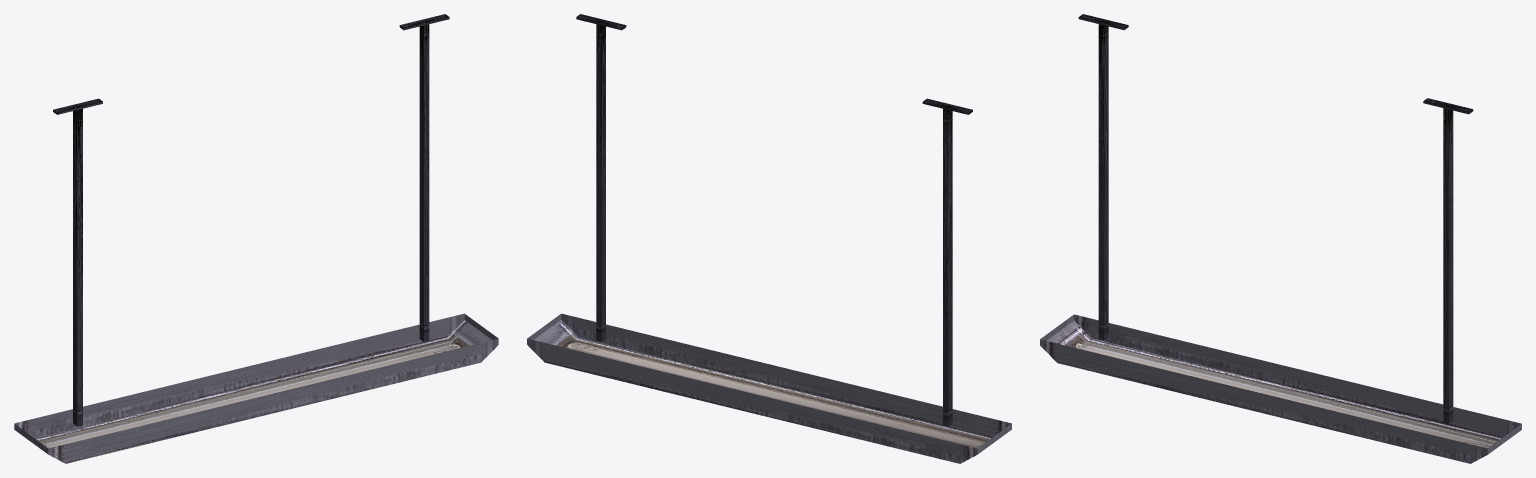
File: Lamp.FBX
The picture shows the model from 3 angles, left to right: view 1: azimuth 30°, elevation 25°; view 2: azimuth 150°, elevation 25°; view 3: azimuth 330°, elevation 25°; orthographic projection.
Parts seen in each view (by area): view 1: Lamp; view 2: Lamp; view 3: Lamp.
Boxes of the visible parts, x1,y1,x2,y2 form: Lamp: (14, 14, 498, 463); Lamp: (527, 14, 1011, 463); Lamp: (1040, 14, 1521, 463).
Bounding box in the file's own units: 45.6 × 32.75 × 6.
